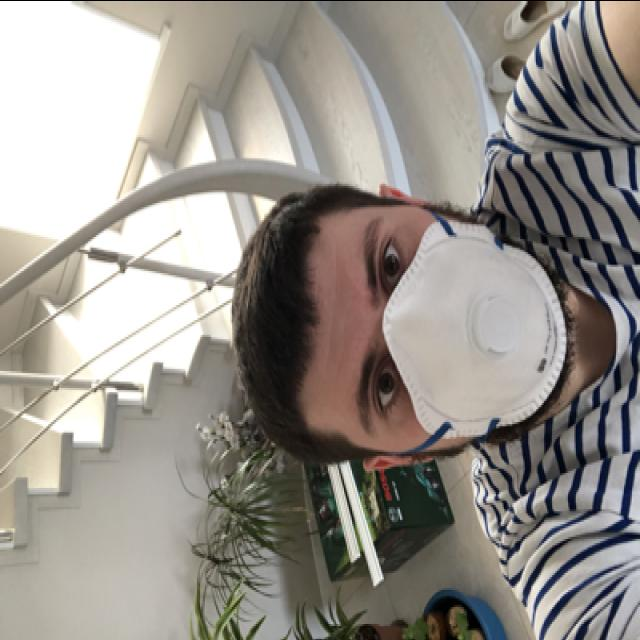mask: (323, 206, 568, 446)
